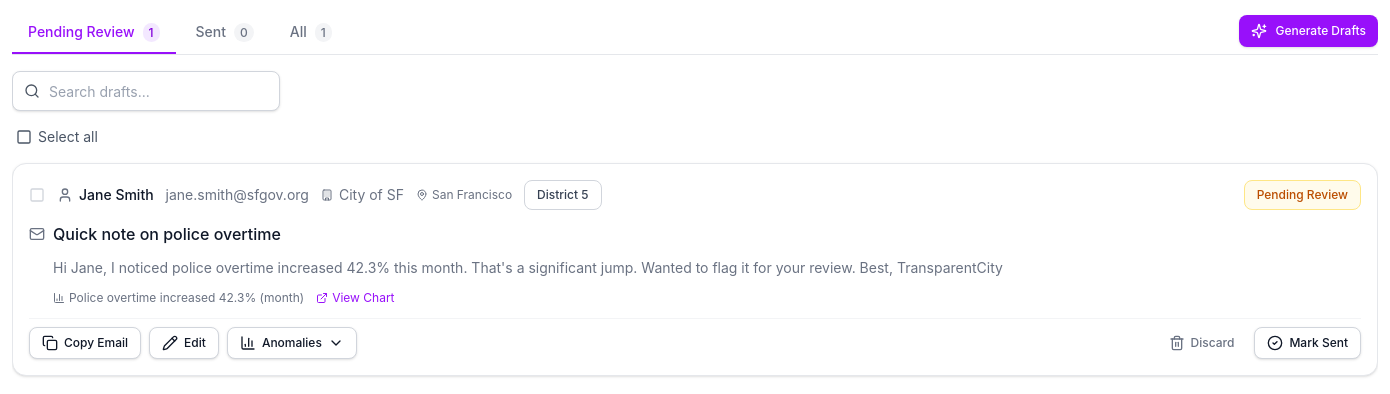
Test: ReviewAndSend › shows empty state for sent tab with no sent items
Click the button "Sent0". click: [225, 33]
box: [180,12,270,54]
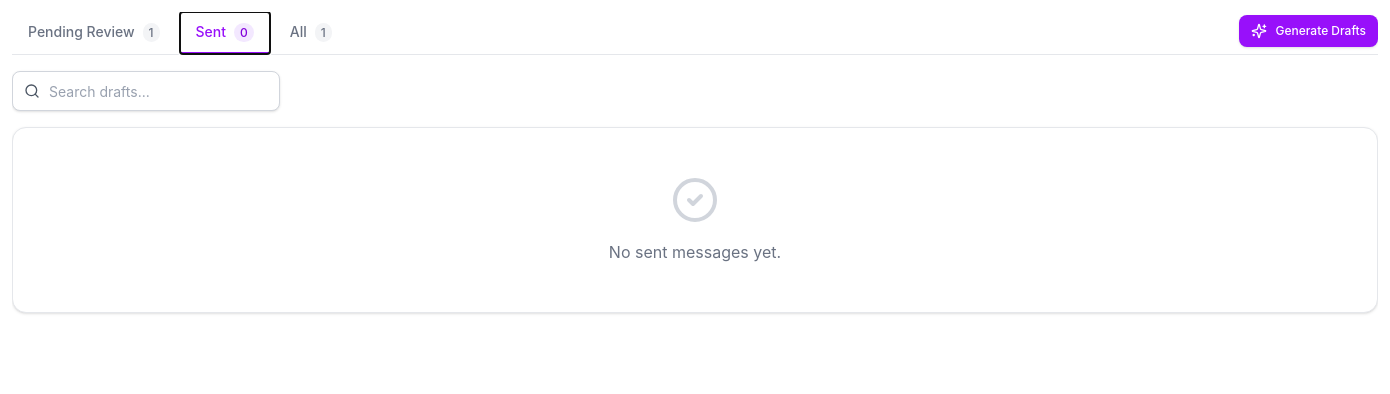
Now the text "No sent messages yet." is shown, box [609,242,781,262]
